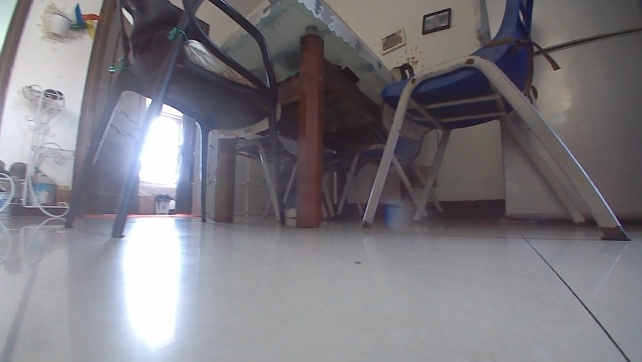dining_table: (60, 0, 633, 243), (432, 129, 440, 161)
refrigerator1: (479, 0, 641, 226)
